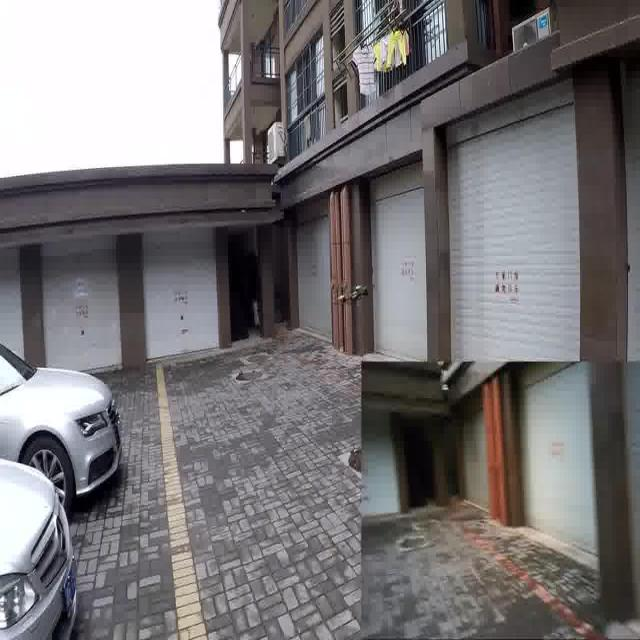drone: (328, 262, 375, 324)
